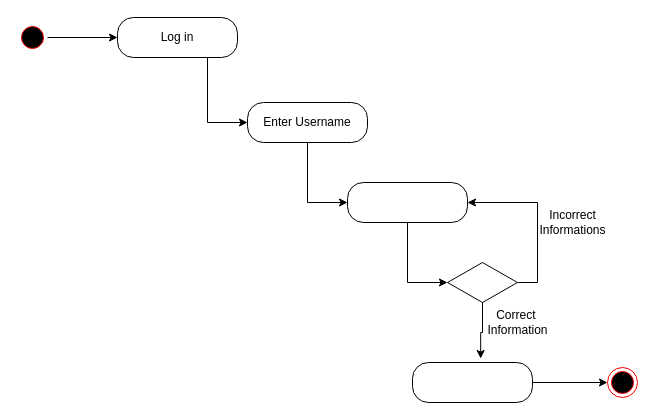
Image size: 655x420. Some labels were removed from this diagram. The box of each missing label's shape, as (x1, y1, x2, y2) in pixels:
Enter Password: (346, 182, 468, 222)
Open Dashboard: (412, 362, 532, 402)
